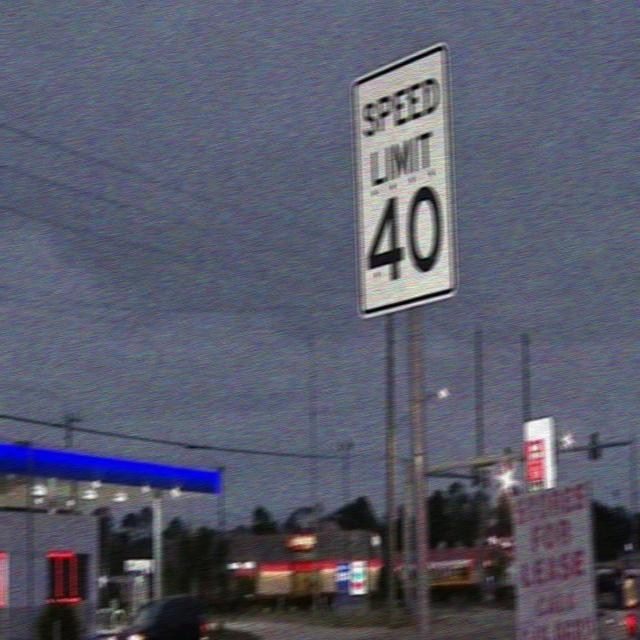speedLimit40: (349, 43, 458, 313)
